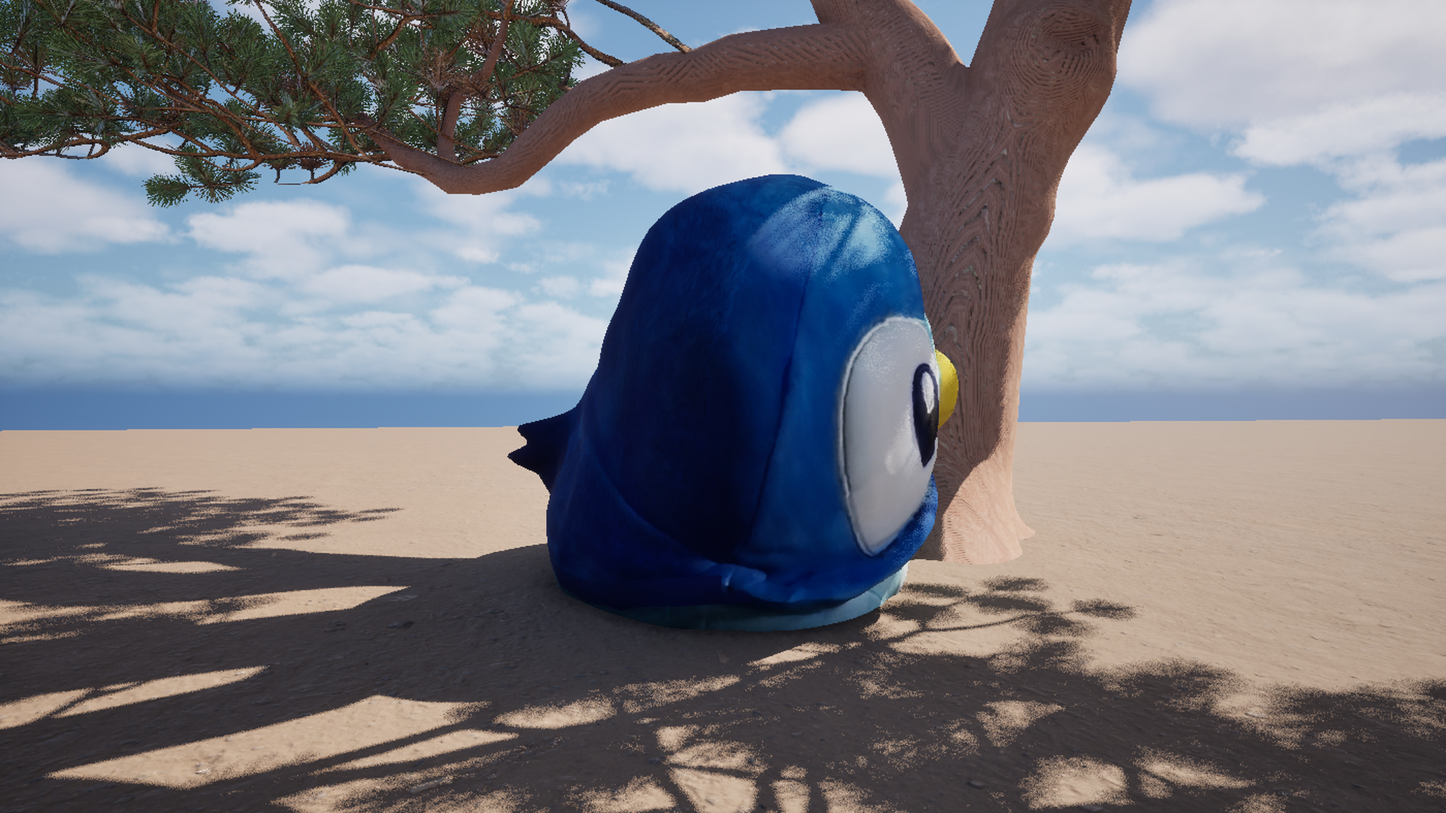Piplup: (244, 0, 1388, 813)
